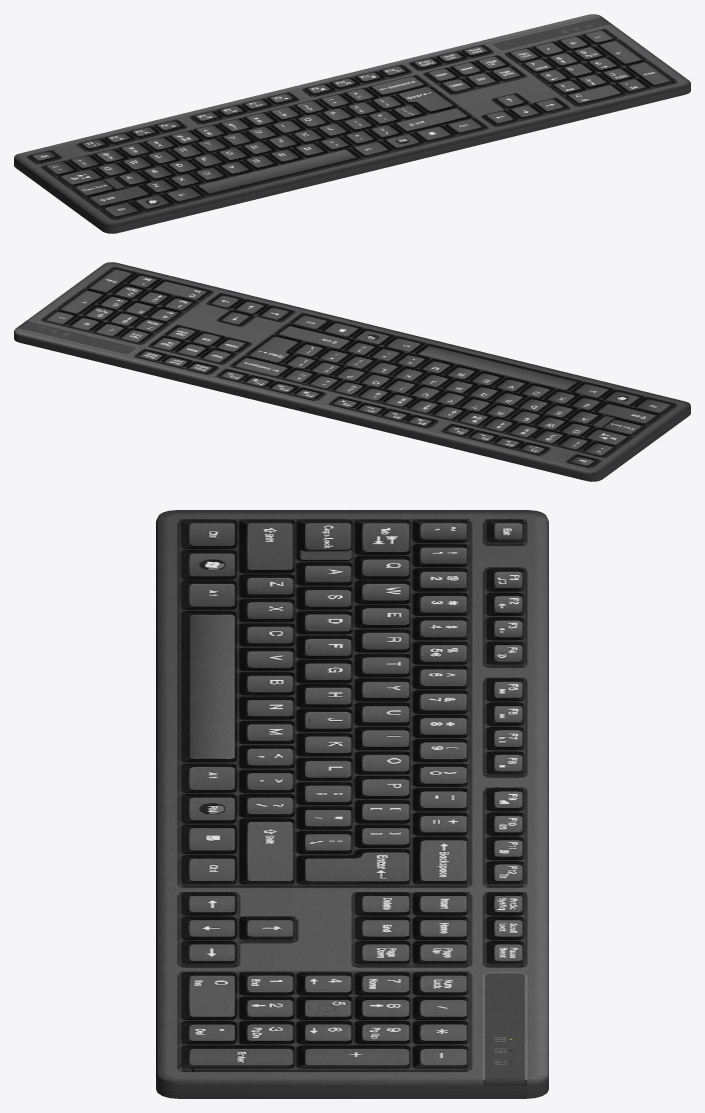
Rendered from Keyboard.obj.
The picture shows the model from 3 angles, top to bottom: view 1: azimuth 30°, elevation 25°; view 2: azimuth 150°, elevation 25°; view 3: azimuth 270°, elevation 25°; orthographic projection. The views are drawn at different scales.
Visible parts, largest first — view 1: Keyboard_Plane; view 2: Keyboard_Plane; view 3: Keyboard_Plane.
Boxes of the visible parts, x1=… form: Keyboard_Plane: x1=14, y1=14, x2=690, y2=233; Keyboard_Plane: x1=14, y1=262, x2=690, y2=481; Keyboard_Plane: x1=156, y1=510, x2=548, y2=1098.
Bounding box in the file's own units: 5 × 0.0739 × 1.45.
